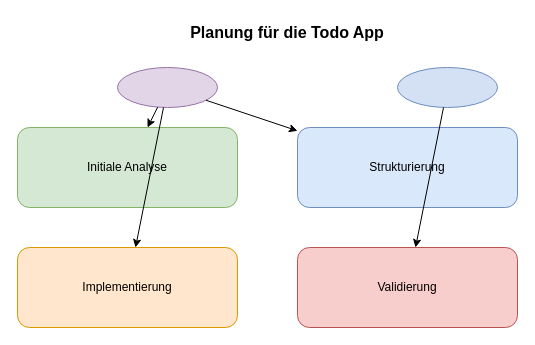
Image size: 535x345. Some labels were removed from this diagram. The shapes that lost their labels are listed below. From the top down, each one's box as (x1, y1, x2, y2) in pixels, then its label:
(116, 66, 218, 108): Henri
(396, 66, 498, 108): Valentin
